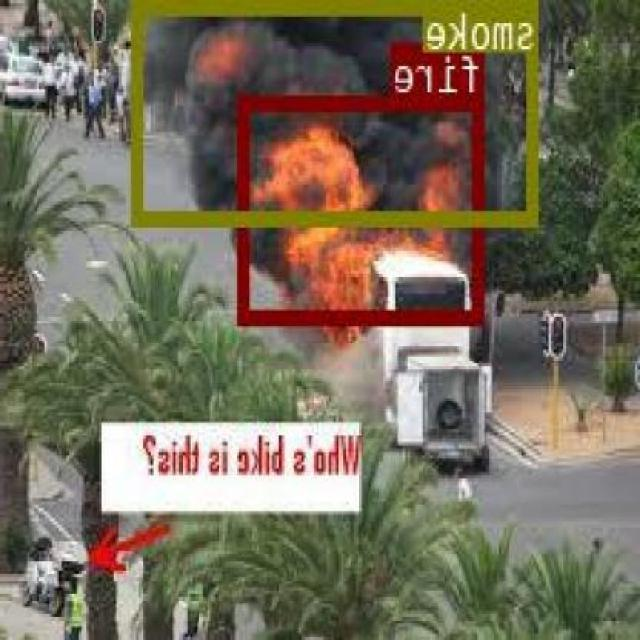Fire: (241, 92, 487, 322)
Smoke: (136, 0, 542, 222)
